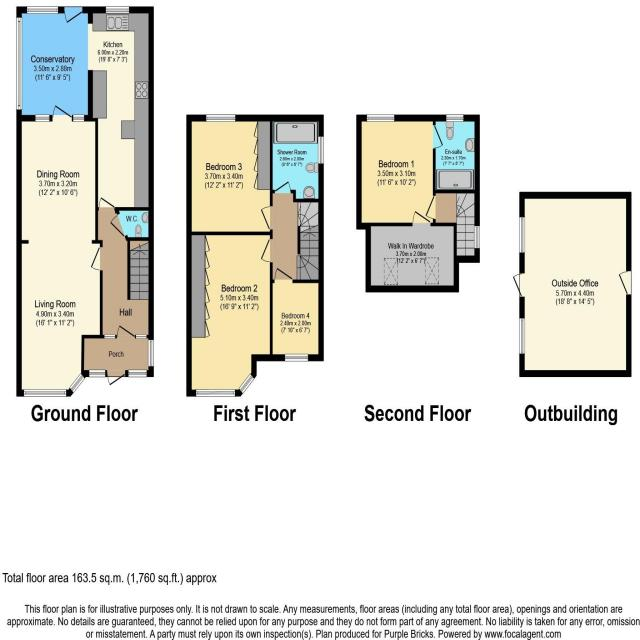DOOR: (108, 211, 128, 239), (616, 270, 633, 297), (51, 103, 73, 123), (273, 265, 296, 284), (63, 5, 84, 25), (259, 204, 274, 232), (259, 237, 274, 265), (411, 209, 433, 228), (89, 245, 104, 272), (106, 368, 126, 388), (512, 271, 526, 299), (116, 323, 137, 340), (432, 124, 444, 150), (425, 195, 437, 221), (98, 195, 116, 212), (127, 369, 148, 378)
ROOM: (15, 6, 154, 212), (16, 103, 103, 397), (511, 191, 632, 377), (186, 230, 274, 398), (186, 114, 273, 236), (356, 114, 444, 230), (269, 266, 324, 362)
WINDOW: (15, 16, 23, 112), (195, 388, 237, 399), (237, 372, 256, 396), (23, 388, 67, 398), (68, 372, 86, 395), (26, 5, 59, 15), (518, 317, 526, 357), (518, 215, 526, 254), (205, 113, 236, 123), (366, 114, 395, 124), (283, 352, 309, 363), (146, 339, 155, 368), (105, 5, 131, 15), (317, 135, 325, 165), (473, 224, 481, 249), (88, 369, 107, 378), (445, 113, 464, 122), (34, 113, 51, 123), (72, 113, 86, 123), (103, 333, 116, 340), (135, 334, 148, 340)
